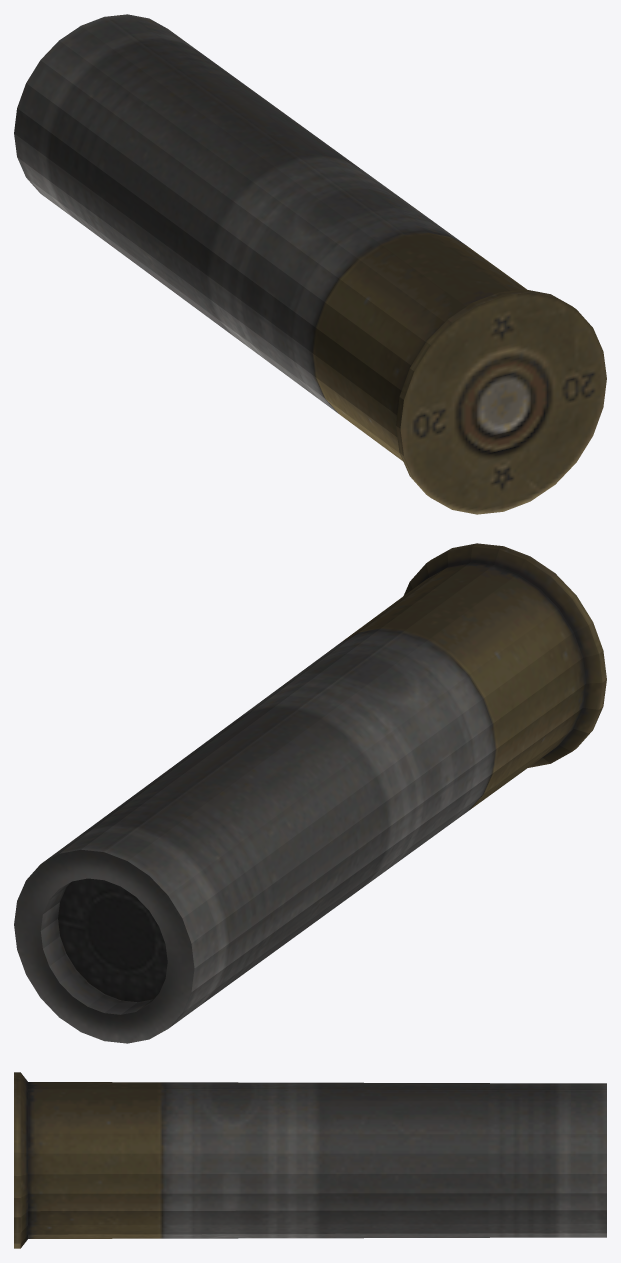
3 renders of one model, top to bottom at view 1: azimuth 30°, elevation 25°; view 2: azimuth 150°, elevation 25°; view 3: azimuth 270°, elevation 25°, orthographic. The views are drawn at different scales.
Parts seen in each view (by area): view 1: TW_6601380580e77cfd080e3418_PZ_Import; view 2: TW_6601380580e77cfd080e3418_PZ_Import; view 3: TW_6601380580e77cfd080e3418_PZ_Import.
Part boxes in pixels (bbox=[...]): TW_6601380580e77cfd080e3418_PZ_Import: bbox=[14, 14, 606, 514]; TW_6601380580e77cfd080e3418_PZ_Import: bbox=[14, 543, 606, 1043]; TW_6601380580e77cfd080e3418_PZ_Import: bbox=[14, 1072, 606, 1248].
Size of the model in its own units: 0.0112 by 0.0376 by 0.0112.
1 material, 1 textured.
